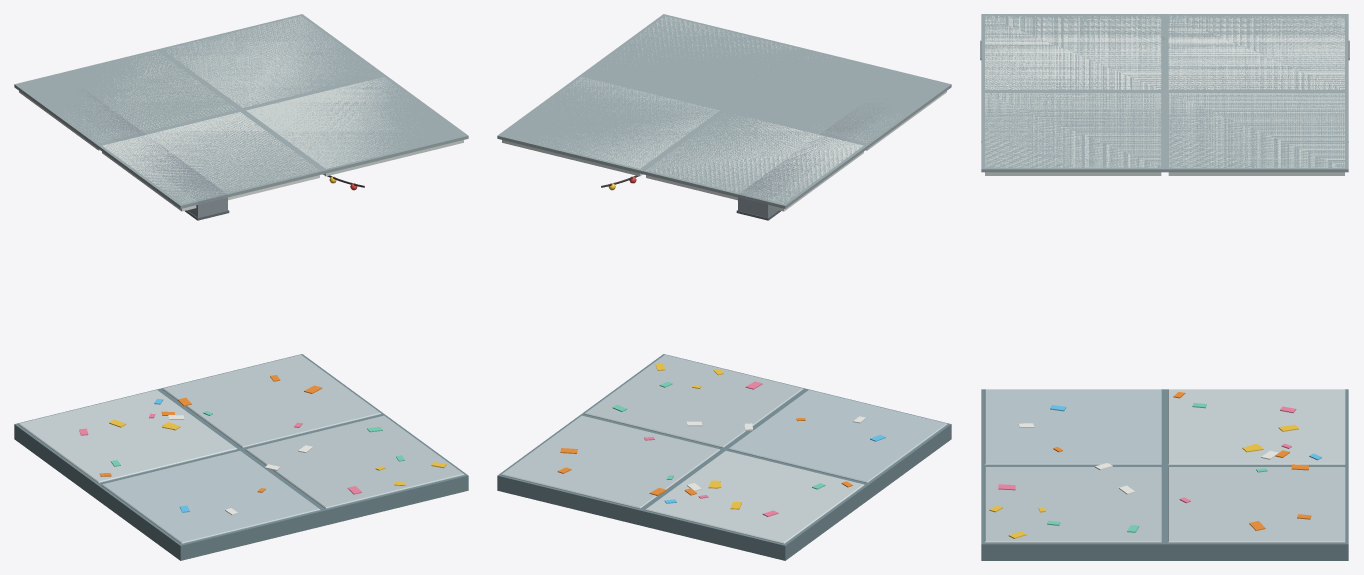
Rendered from floor_c.fbx.
3 renders of one model, left to right at view 1: azimuth 30°, elevation 25°; view 2: azimuth 150°, elevation 25°; view 3: azimuth 270°, elevation 25°, orthographic. The views are drawn at different scales.
Visible parts, largest first — view 1: floor_c, Ceiling; view 2: floor_c, Ceiling; view 3: floor_c, Ceiling.
Part boxes in pixels (bbox=[...]): floor_c: bbox=[14, 354, 468, 560]; Ceiling: bbox=[14, 14, 468, 220]; floor_c: bbox=[497, 354, 951, 560]; Ceiling: bbox=[497, 14, 951, 220]; floor_c: bbox=[981, 389, 1348, 560]; Ceiling: bbox=[980, 14, 1349, 175].
Bounding box in the file's own units: 4 × 4.71 × 4.02.
